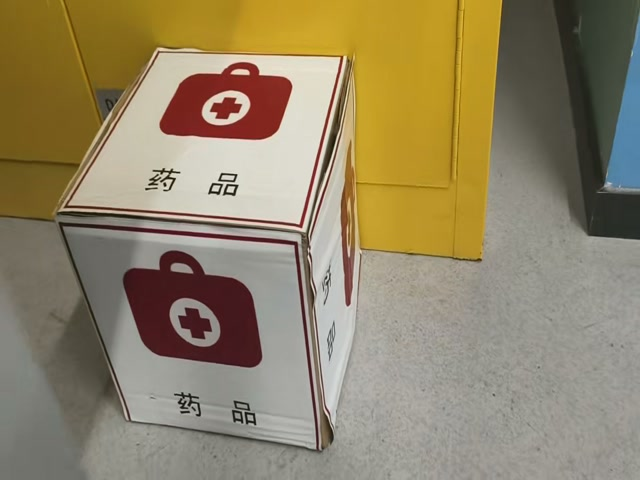Cube_medicine: (51, 49, 351, 229)
